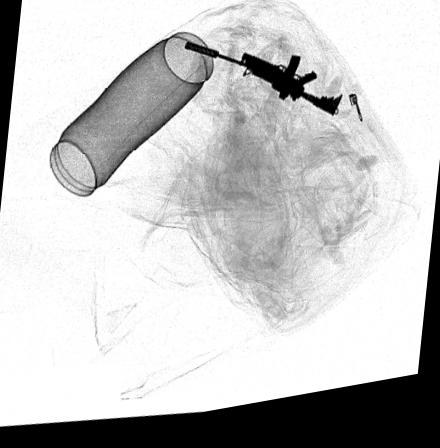Gun: (185, 46, 344, 131)
